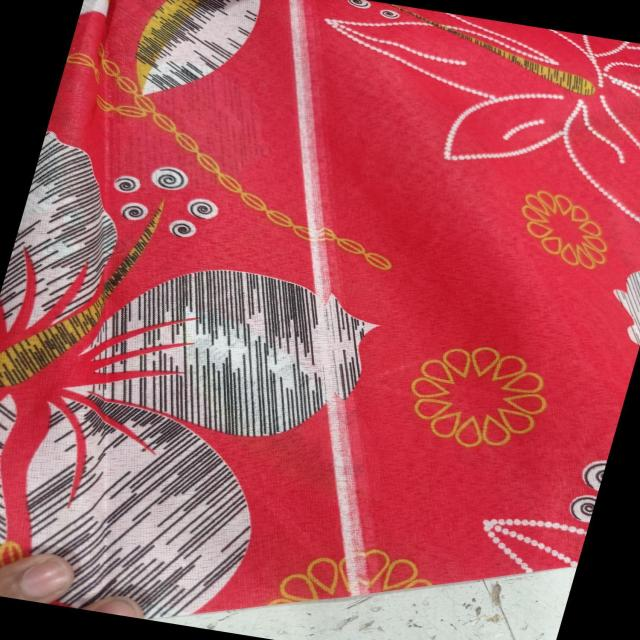selvet: (120, 0, 532, 604)
